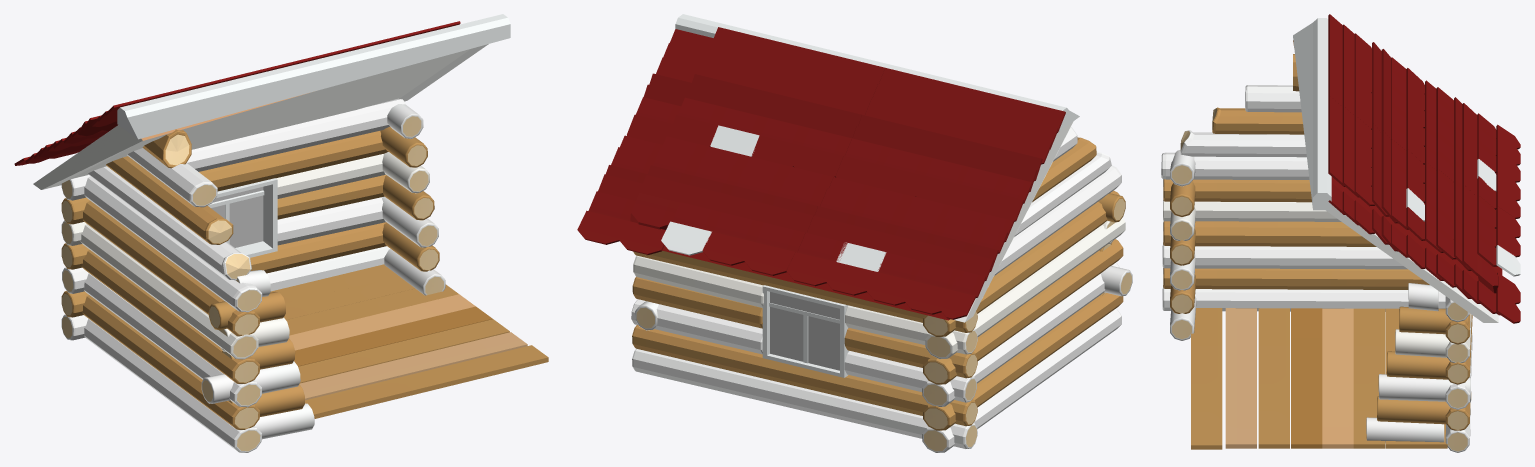
File: House_Phse2Interior.fbx
3 renders of one model, left to right at view 1: azimuth 30°, elevation 25°; view 2: azimuth 150°, elevation 25°; view 3: azimuth 270°, elevation 25°, orthographic. The views are drawn at different scales.
Parts seen in each view (by area): view 1: polySurface174; view 2: polySurface174; view 3: polySurface174.
Part boxes in pixels (x1,y1,x2,y2): polySurface174: (14,14,548,452); polySurface174: (577,14,1132,452); polySurface174: (1161,14,1520,452).
Bounding box in the file's own units: 772 × 562 × 661.
